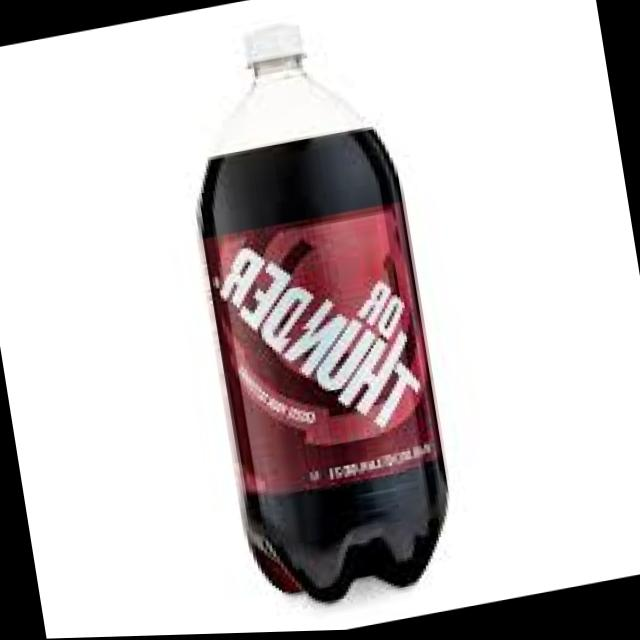Botella: (150, 0, 483, 620)
